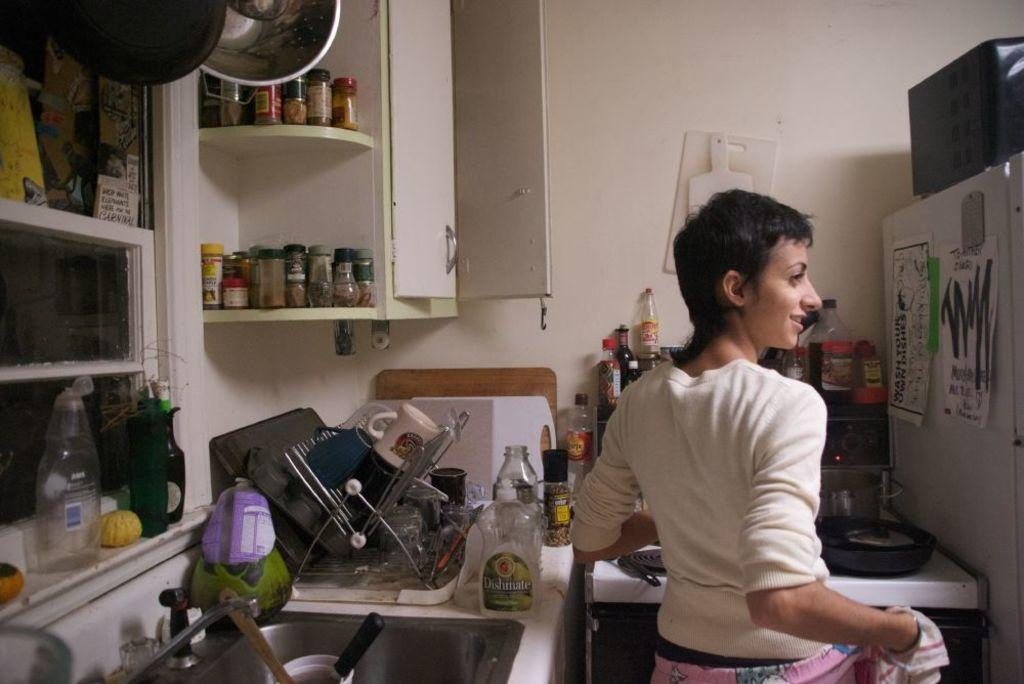cabinet_door: (465, 18, 547, 290), (394, 4, 460, 294)
handle: (431, 220, 457, 284)
